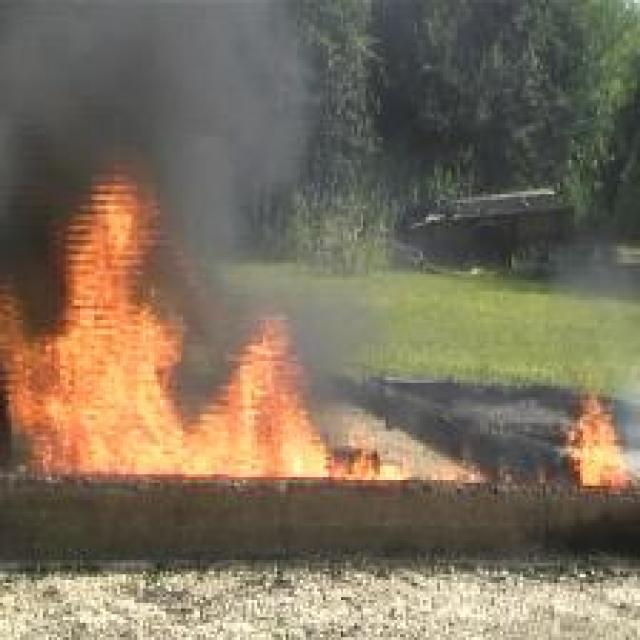Fire: (0, 162, 414, 477), (563, 391, 640, 483)
